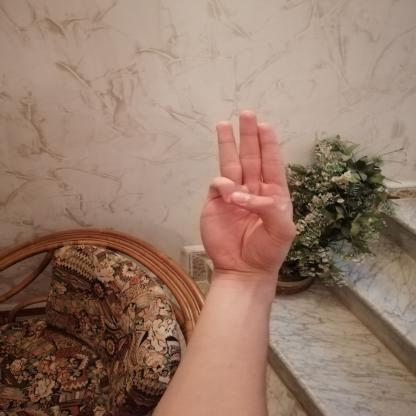THA: (184, 100, 306, 286)
